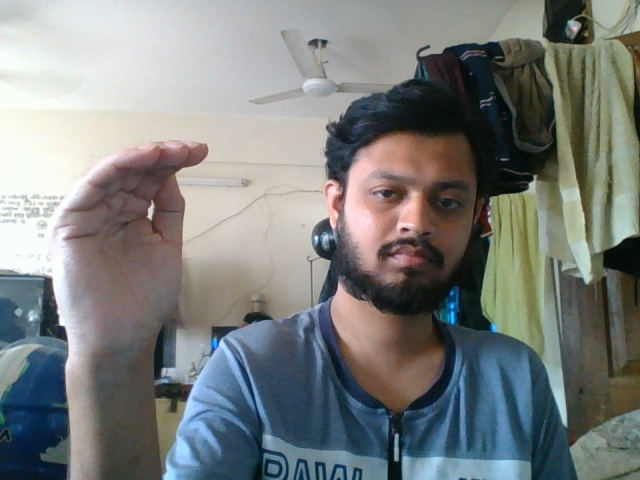ga: (42, 125, 217, 423)
